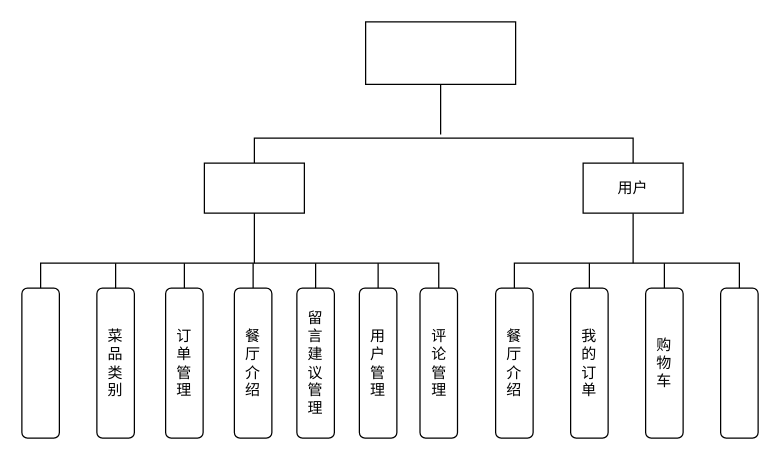
The diagram is 780 pixels wide and 460 high, and some of its shapes have lost their labels. Each missing label, with the box of its shape:
个 人 中 心: (719, 287, 758, 438)
外卖点单平台: (364, 21, 516, 84)
管理员: (203, 162, 304, 213)
菜 品 管 理: (21, 287, 59, 438)
